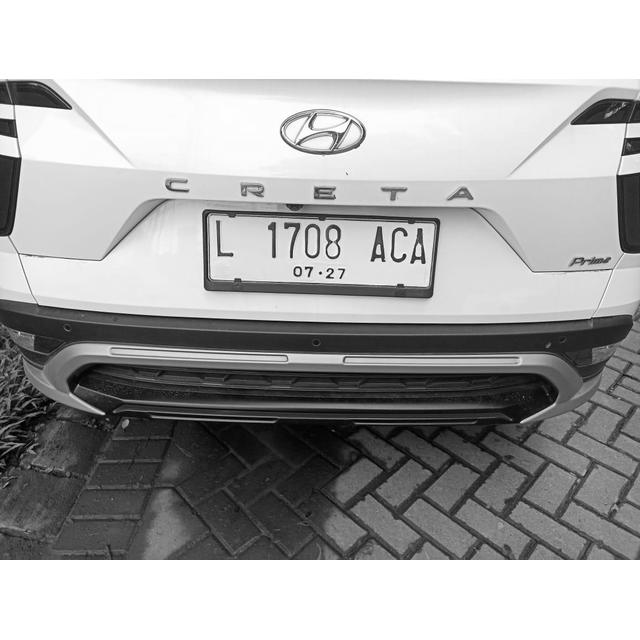license: (211, 214, 431, 283)
